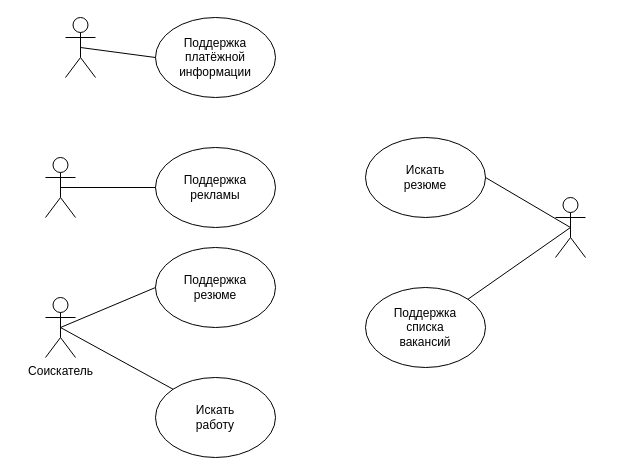
This 642x475 diagram has some shape labels left out. Each missing label, with the box of its shape:
Владелец вакансии: (554, 196, 586, 258)
Рекламодатель: (44, 156, 76, 218)
Система: (64, 16, 96, 78)
